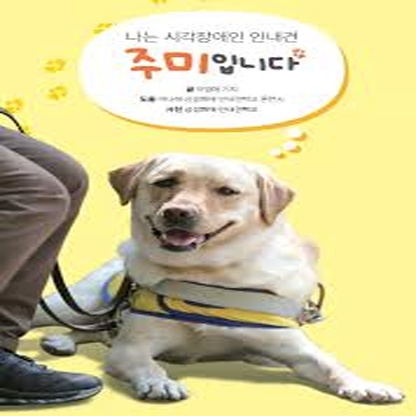guide-dog: (47, 145, 414, 406)
